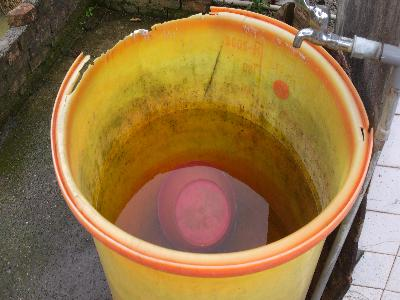bowl: (156, 161, 240, 254)
bucket: (47, 5, 374, 300)
